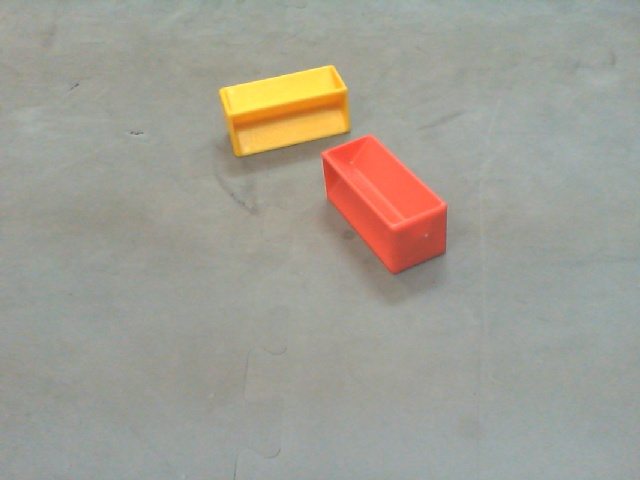RedSample: (319, 133, 452, 276)
YellowSample: (216, 62, 351, 159)
